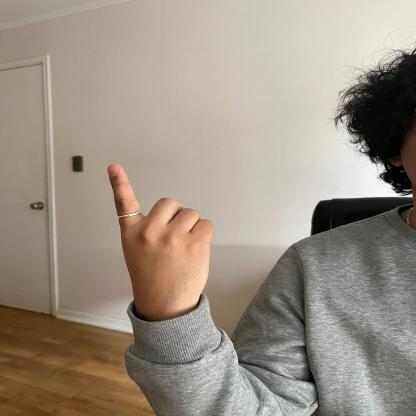T: (101, 153, 215, 309)
